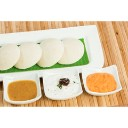idly: (39, 39, 63, 68), (16, 44, 41, 69), (61, 38, 85, 64), (1, 43, 21, 69)
